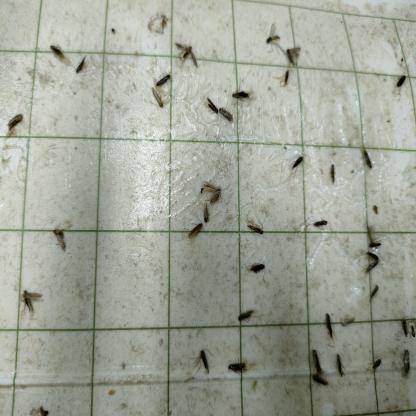prays_oleae: (17, 283, 39, 320), (178, 220, 209, 245), (194, 339, 213, 379), (243, 254, 279, 274), (230, 304, 260, 328), (358, 145, 378, 177), (395, 345, 414, 378), (286, 38, 306, 68), (225, 352, 249, 376), (364, 354, 388, 377), (46, 39, 66, 66), (178, 38, 198, 65), (53, 225, 72, 253), (289, 149, 308, 175), (324, 306, 339, 337), (7, 109, 26, 133), (367, 225, 386, 249), (72, 53, 92, 74), (326, 159, 340, 189), (148, 86, 164, 112), (230, 82, 251, 101), (209, 180, 225, 204), (246, 219, 266, 238), (263, 32, 281, 53), (218, 105, 235, 127), (361, 250, 378, 272), (196, 207, 216, 225), (332, 352, 346, 377), (311, 373, 329, 391), (400, 314, 410, 342), (312, 349, 325, 370), (392, 75, 410, 90), (369, 280, 382, 300), (208, 94, 218, 118), (310, 216, 330, 228), (155, 71, 175, 82)
